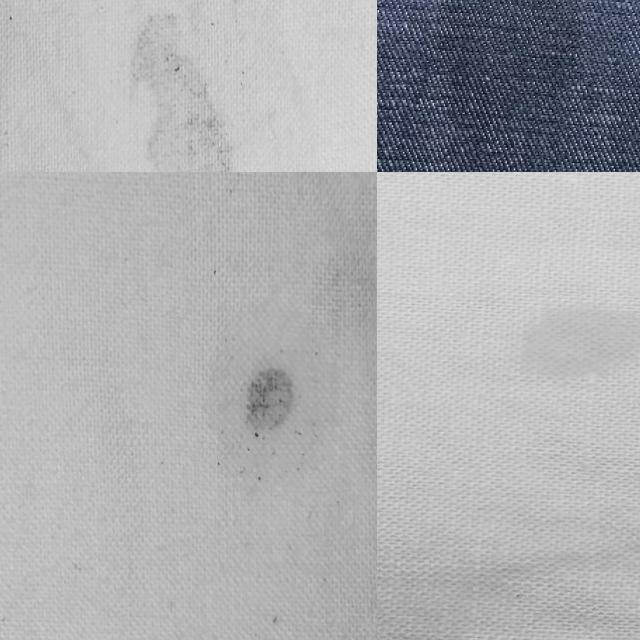Thread_other: (83, 0, 241, 172), (200, 340, 322, 472)
